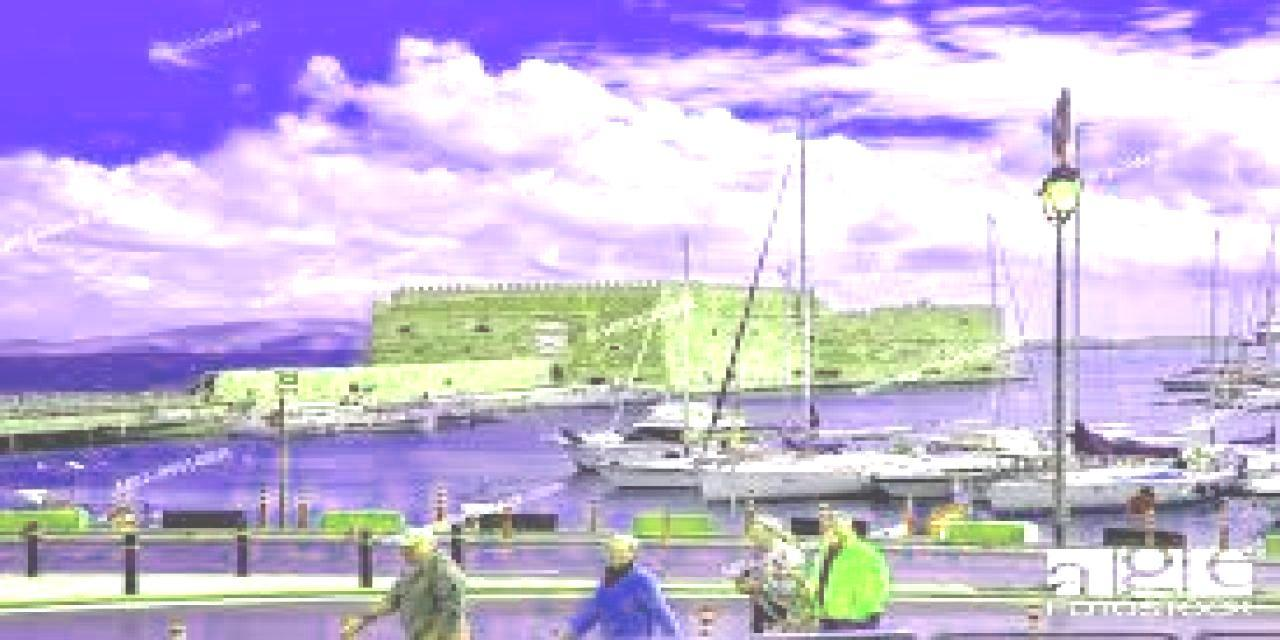Kules: (363, 279, 1031, 385)
